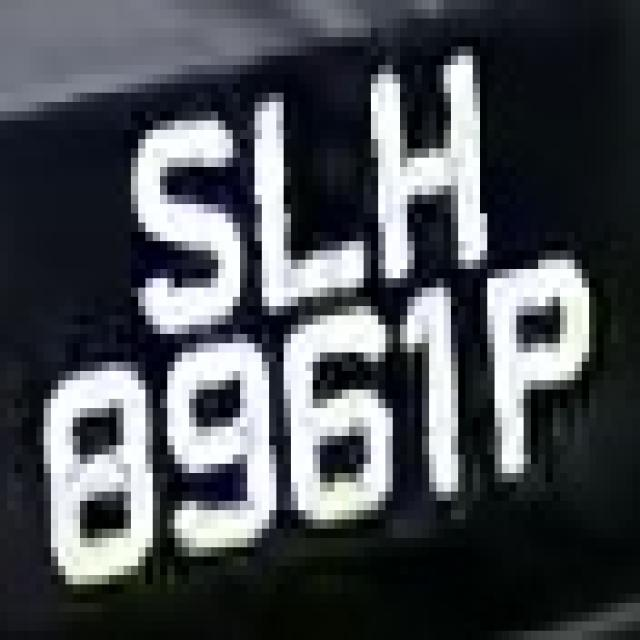1: (400, 232, 480, 519)
6: (291, 278, 407, 538)
8: (29, 343, 167, 612)
9: (146, 325, 276, 584)
H: (335, 37, 509, 269)
L: (218, 56, 371, 324)
P: (480, 232, 604, 510)
S: (109, 74, 240, 353)
